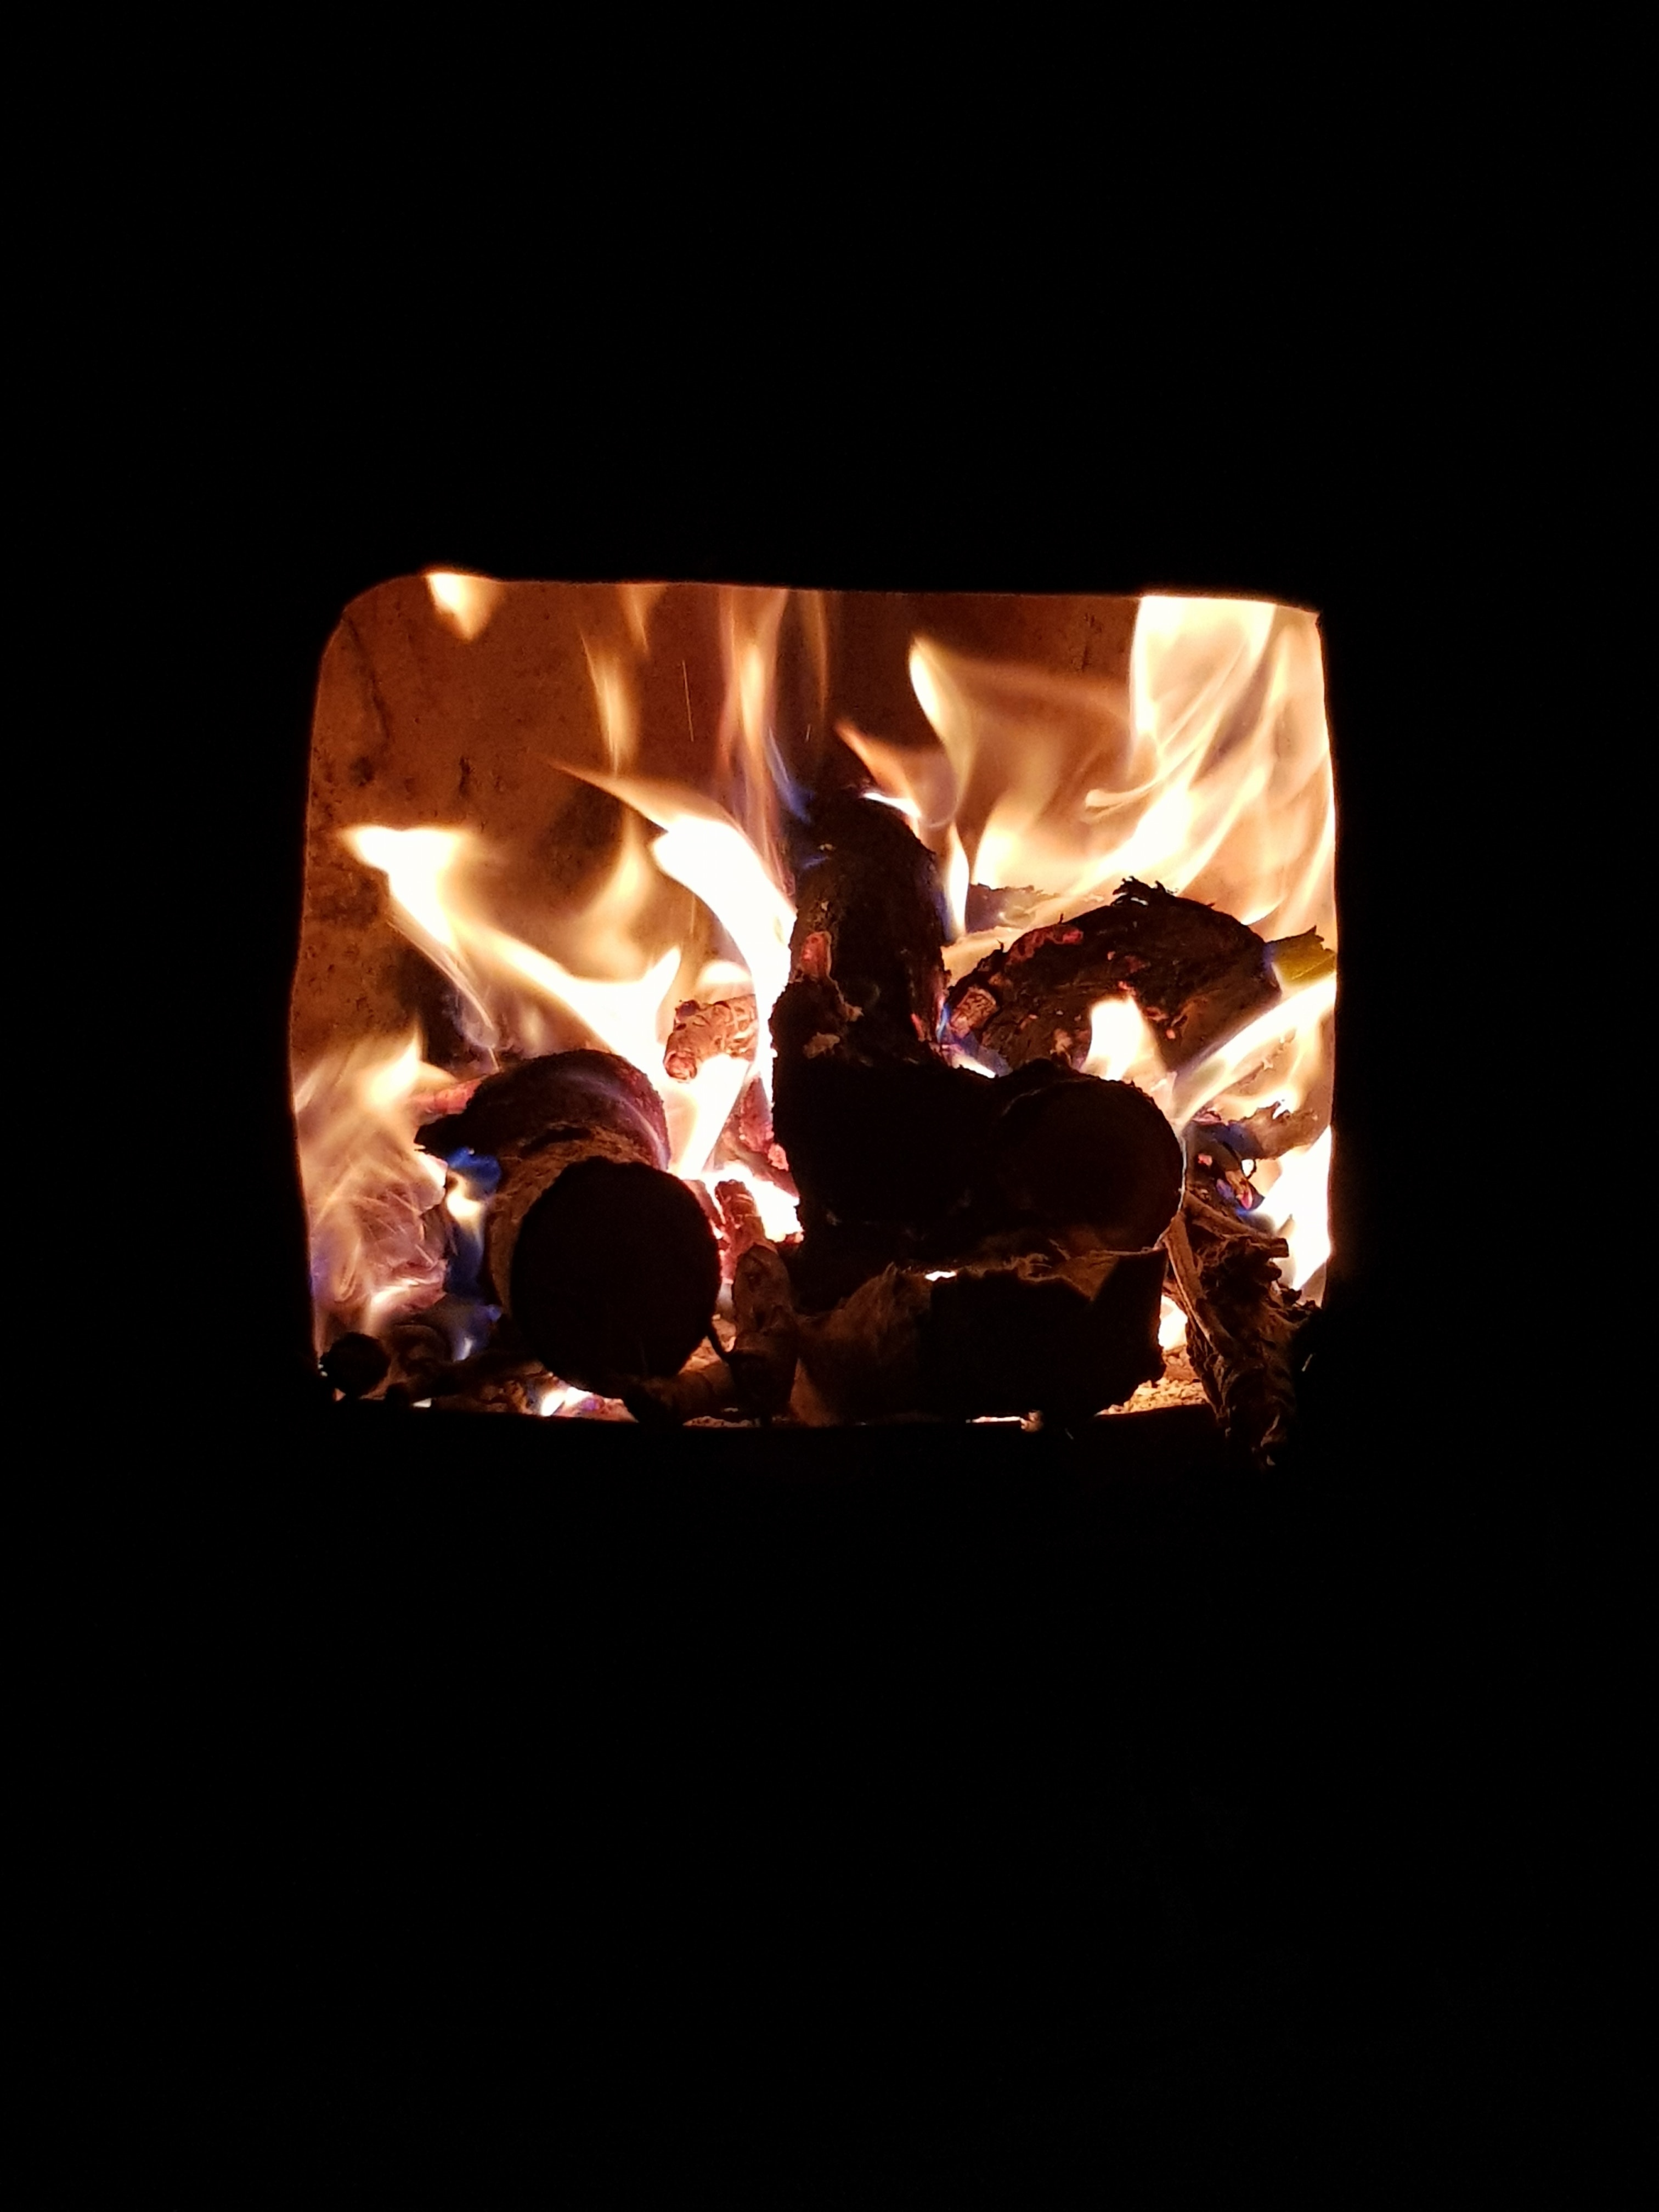fire: (277, 573, 1420, 1432)
